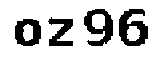6: (119, 7, 150, 48)
9: (81, 8, 116, 49)
o: (9, 15, 42, 47)
z: (47, 14, 76, 48)
